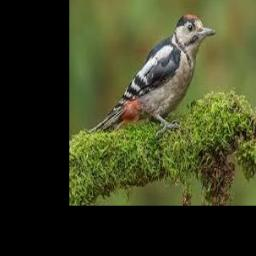Woodpecker: (90, 13, 215, 134)
